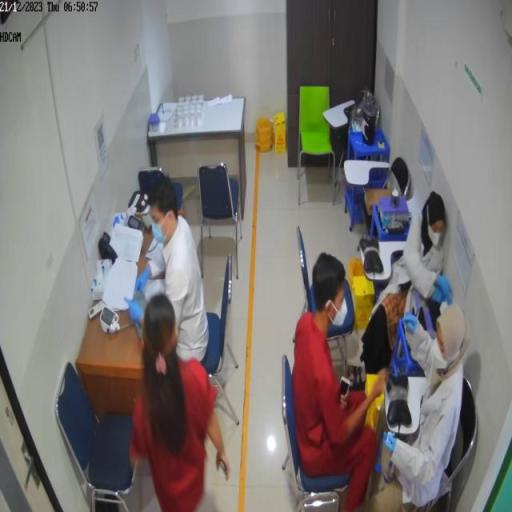person: (292, 252, 387, 512), (132, 294, 231, 512), (376, 304, 471, 512), (363, 192, 452, 376), (127, 178, 209, 365)
